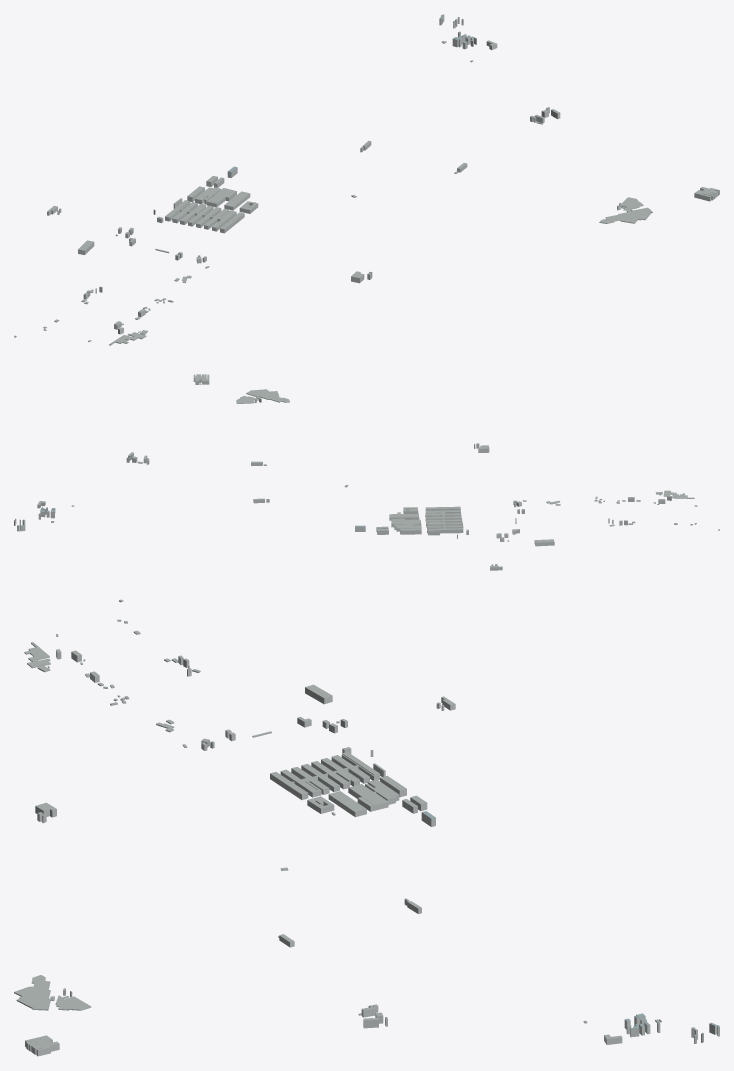
Rendered from far.glb.
3 views of the same model, one above another, from view 1: azimuth 30°, elevation 25°; view 2: azimuth 150°, elevation 25°; view 3: azimuth 270°, elevation 25° (orthographic). The views are drawn at different scales.
Bounding box in the file's own units: 2115 × 22.65 × 1384.
